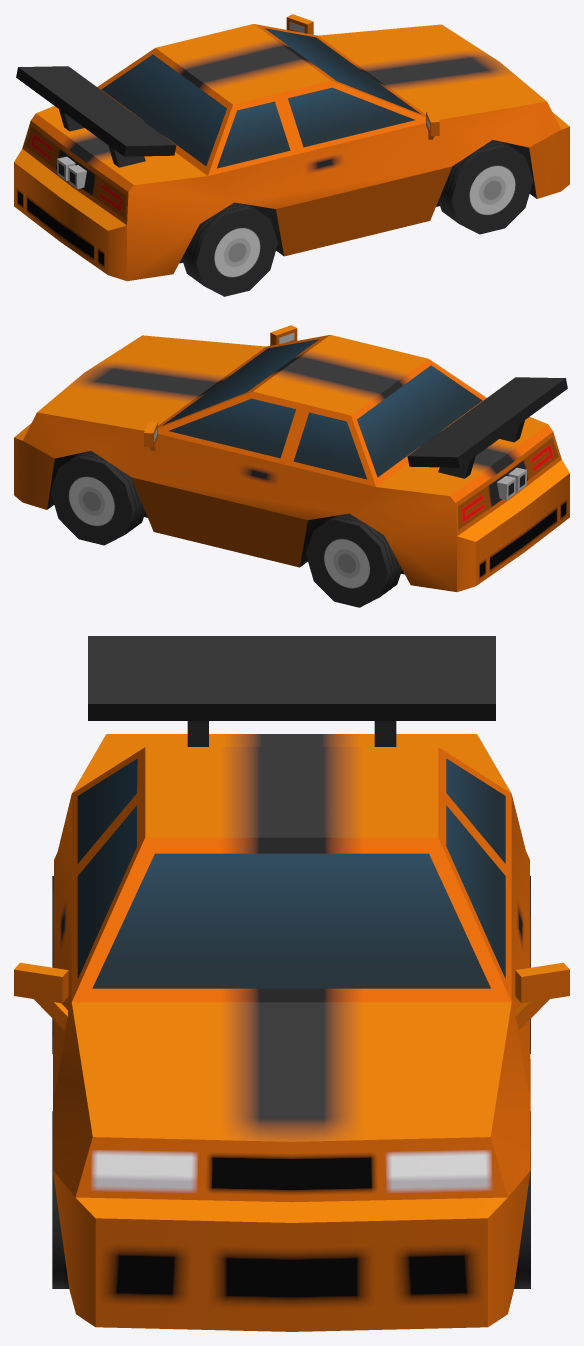
The model's file is RaceCar_088.glb.
3 renders of one model, top to bottom at view 1: azimuth 30°, elevation 25°; view 2: azimuth 150°, elevation 25°; view 3: azimuth 270°, elevation 25°, orthographic. The views are drawn at different scales.
Parts seen in each view (by area): view 1: RaceCar_088, wheel_3_RaceCar_088_Wheel_2R, wheel_1_RaceCar_088_Wheel_1R; view 2: RaceCar_088, wheel_2_RaceCar_088_Wheel_2L, wheel_0_RaceCar_088_Wheel_1L; view 3: RaceCar_088, wheel_1_RaceCar_088_Wheel_1R, wheel_0_RaceCar_088_Wheel_1L.
Boxes of the visible parts, x1,y1,x2,y2 form: RaceCar_088: (14, 14, 569, 281); wheel_3_RaceCar_088_Wheel_2R: (181, 202, 278, 296); wheel_1_RaceCar_088_Wheel_1R: (438, 140, 533, 234); RaceCar_088: (14, 325, 569, 591); wheel_2_RaceCar_088_Wheel_2L: (306, 513, 402, 607); wheel_0_RaceCar_088_Wheel_1L: (50, 450, 145, 545); RaceCar_088: (14, 636, 569, 1331); wheel_1_RaceCar_088_Wheel_1R: (52, 1111, 69, 1288); wheel_0_RaceCar_088_Wheel_1L: (514, 1111, 530, 1288).
Size of the model in its own units: 3.8 by 1.3 by 2.09.
1 material, 1 textured.
